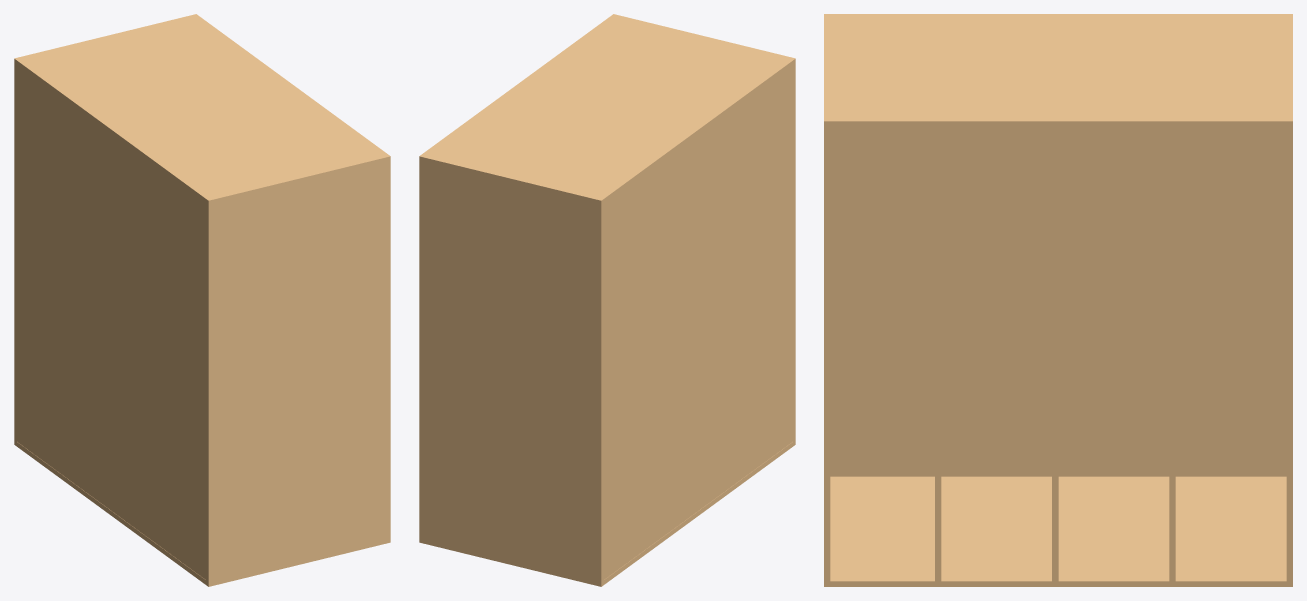
The picture shows the model from 3 angles, left to right: view 1: azimuth 30°, elevation 25°; view 2: azimuth 150°, elevation 25°; view 3: azimuth 270°, elevation 25°; orthographic projection. The views are drawn at different scales.
Visible parts, largest first — view 1: ROOT_link (×5); view 2: ROOT_link (×5); view 3: ROOT_link (×8).
Boxes of the visible parts, left/top/right/bottom form: ROOT_link (×5): left=14, top=14, right=390, bottom=586; ROOT_link (×5): left=419, top=14, right=795, bottom=586; ROOT_link (×8): left=824, top=14, right=1292, bottom=586.
Size of the model in its own units: 0.395 by 0.8 by 0.73.
